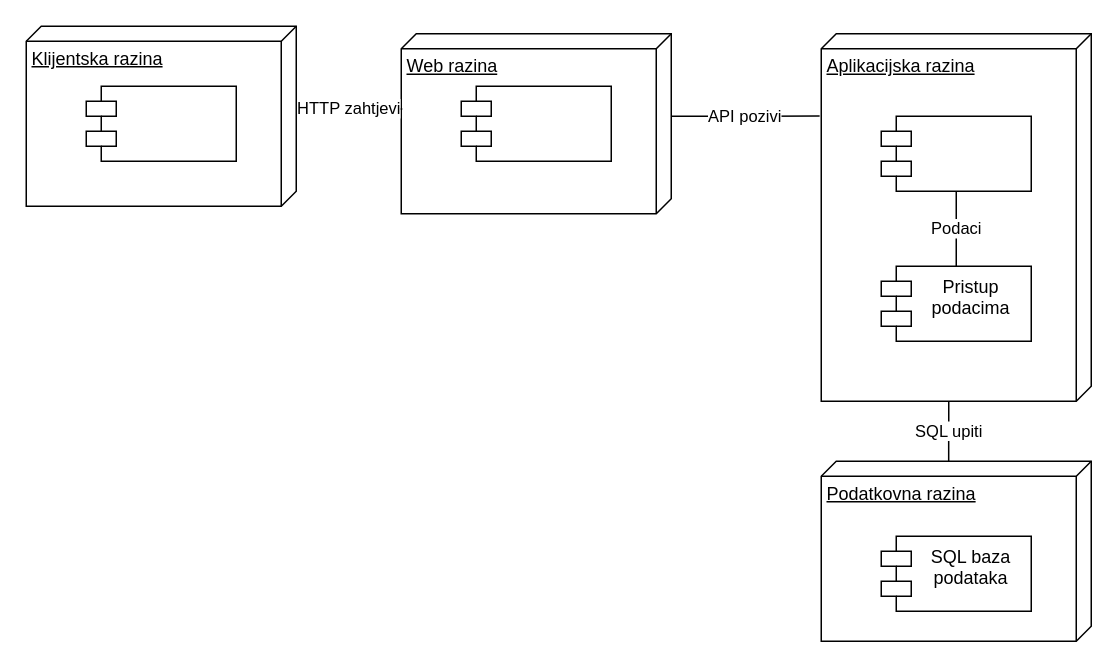
The diagram is 1118 pixels wide and 668 high, and some of its shapes have lost their labels. The shapes that lost their labels are listed below. From the top down, each one's centre as x and y in pixels, then its label:
pixel 160 123: Desktop Mobitel Tablet
pixel 535 123: Korisničko sučelje
pixel 955 153: Poslovna logika
